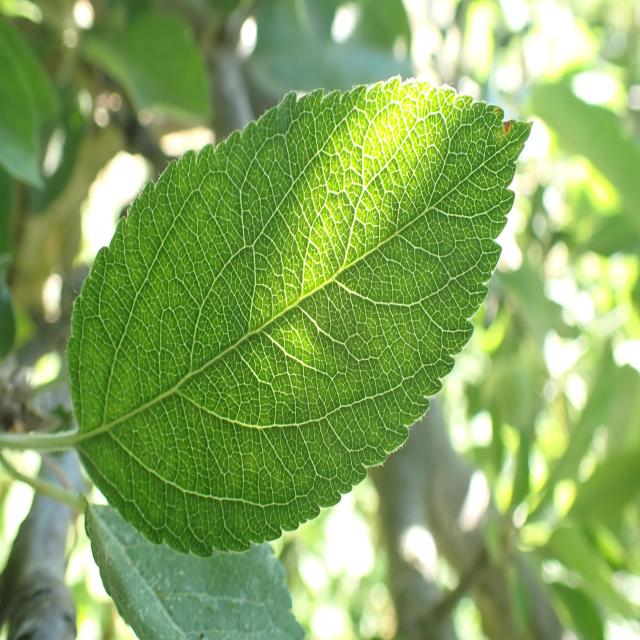healthy: (68, 74, 535, 560), (85, 502, 307, 640)
